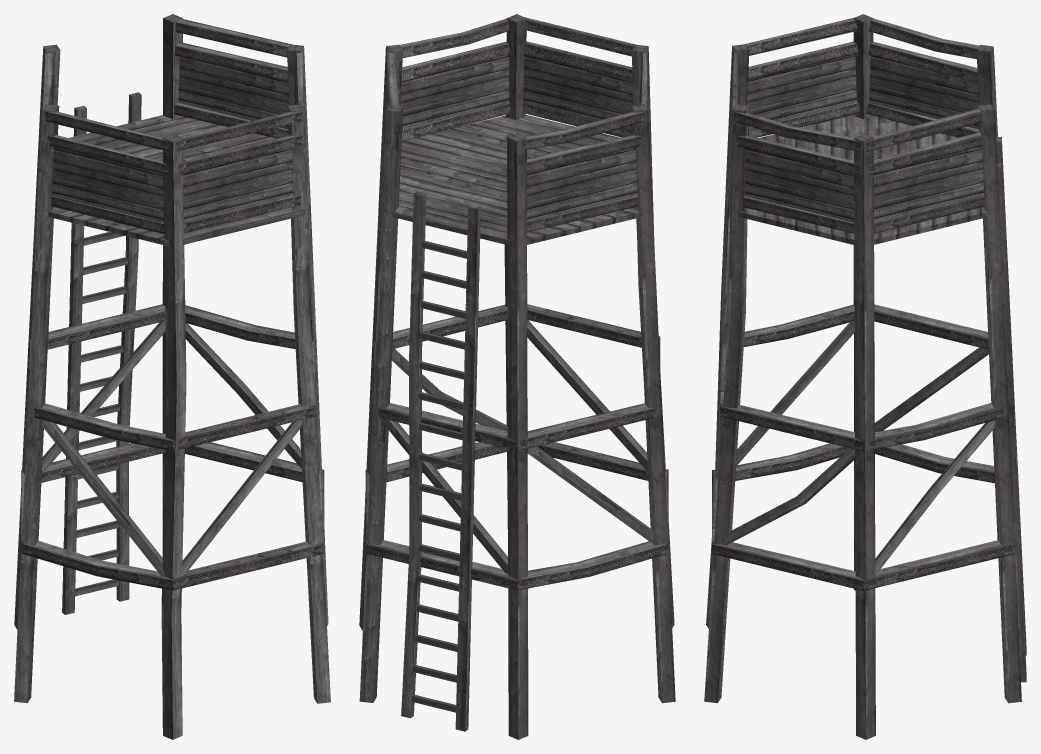
The model's file is v3_huntingtower.dae.
3 views of the same model, side by side, from view 1: azimuth 30°, elevation 25°; view 2: azimuth 150°, elevation 25°; view 3: azimuth 270°, elevation 25° (orthographic).
Visible parts, largest first — view 1: WoodPlanks, Wood_planks_ornaments; view 2: WoodPlanks, Wood_planks_ornaments; view 3: WoodPlanks, Wood_planks_ornaments.
Boxes of the visible parts, left/top/right/bottom form: WoodPlanks: left=14, top=14, right=330, bottom=739; Wood_planks_ornaments: left=21, top=19, right=324, bottom=590; WoodPlanks: left=359, top=14, right=675, bottom=739; Wood_planks_ornaments: left=365, top=17, right=668, bottom=590; WoodPlanks: left=704, top=14, right=1026, bottom=739; Wood_planks_ornaments: left=712, top=18, right=1015, bottom=590.
Bounding box in the file's own units: 3.46 × 6.15 × 3.06.
